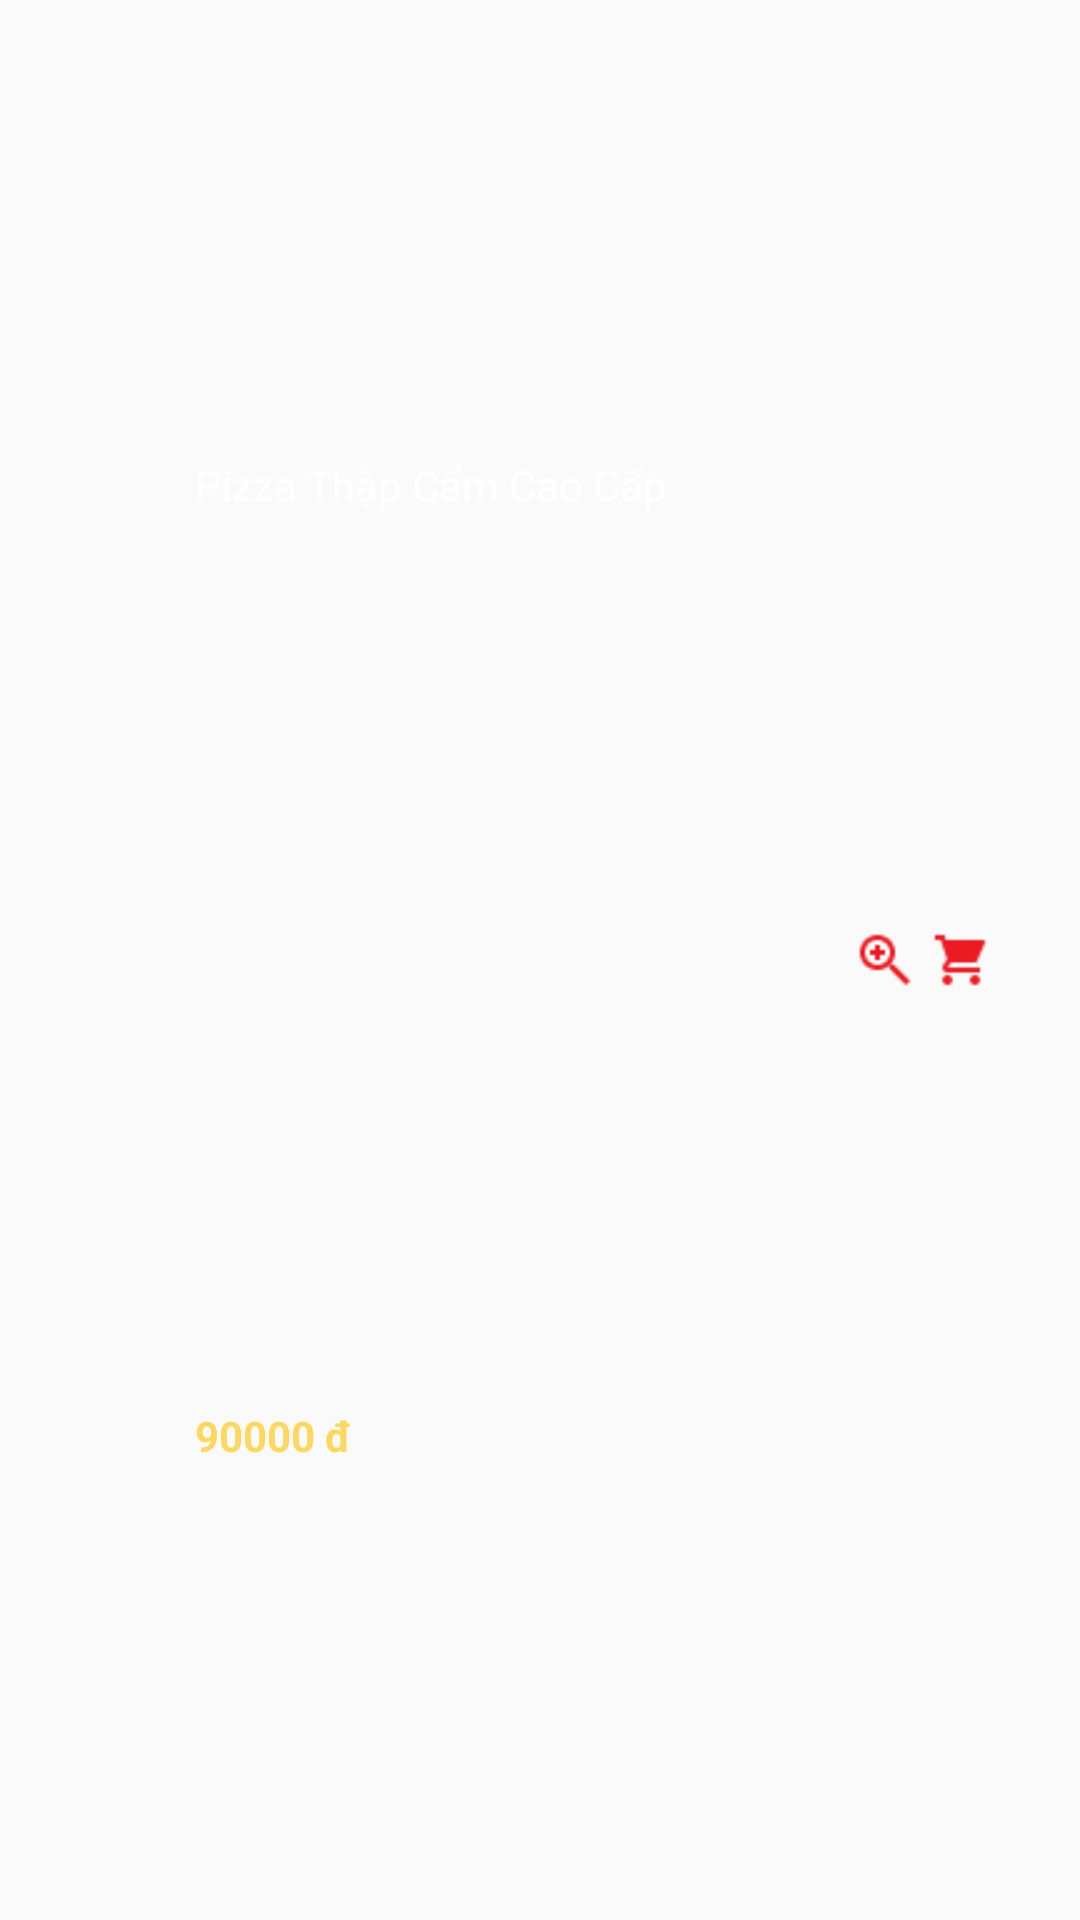

Named icons in this screenshot (1080×1920) and their centers, [x,y]:
cart: [960,960]
